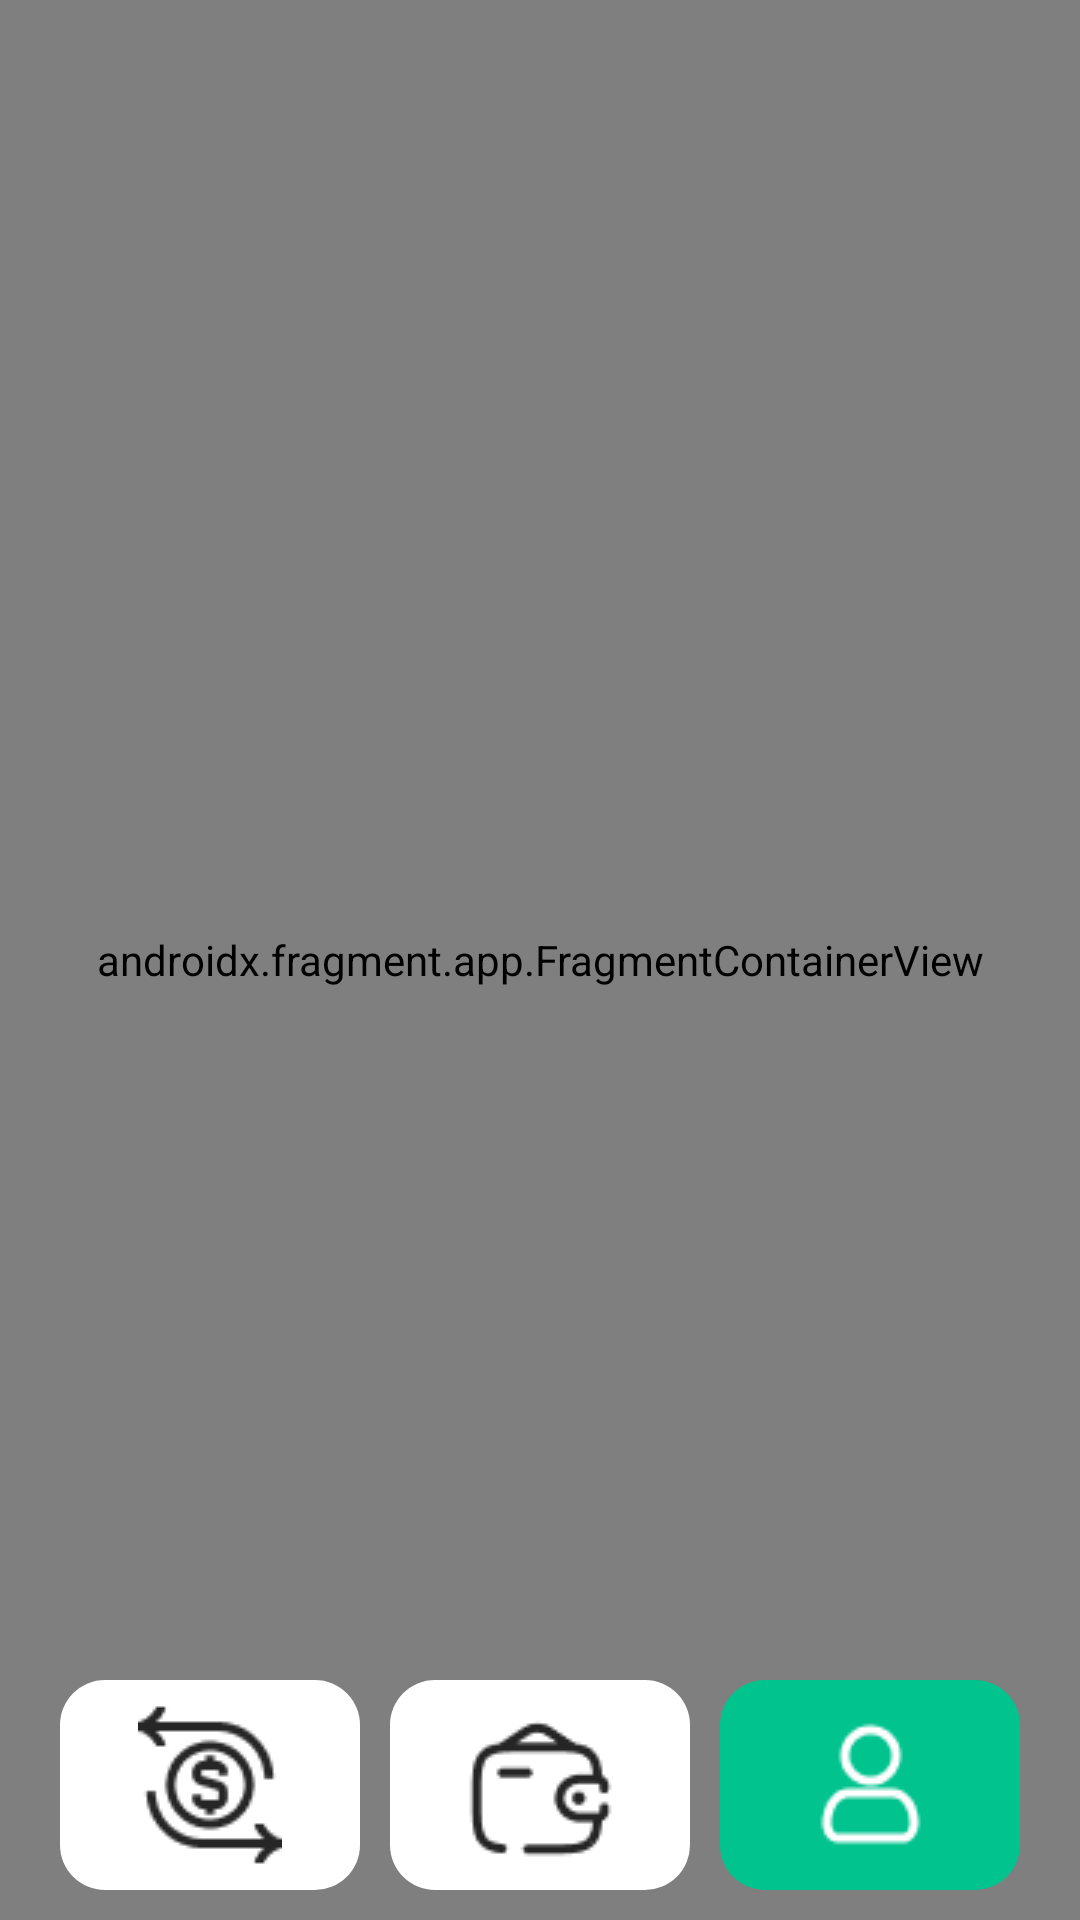

Icon click points for this 1080px×1920px phone screenshot, format [x,y]:
profile: [870,1785]
